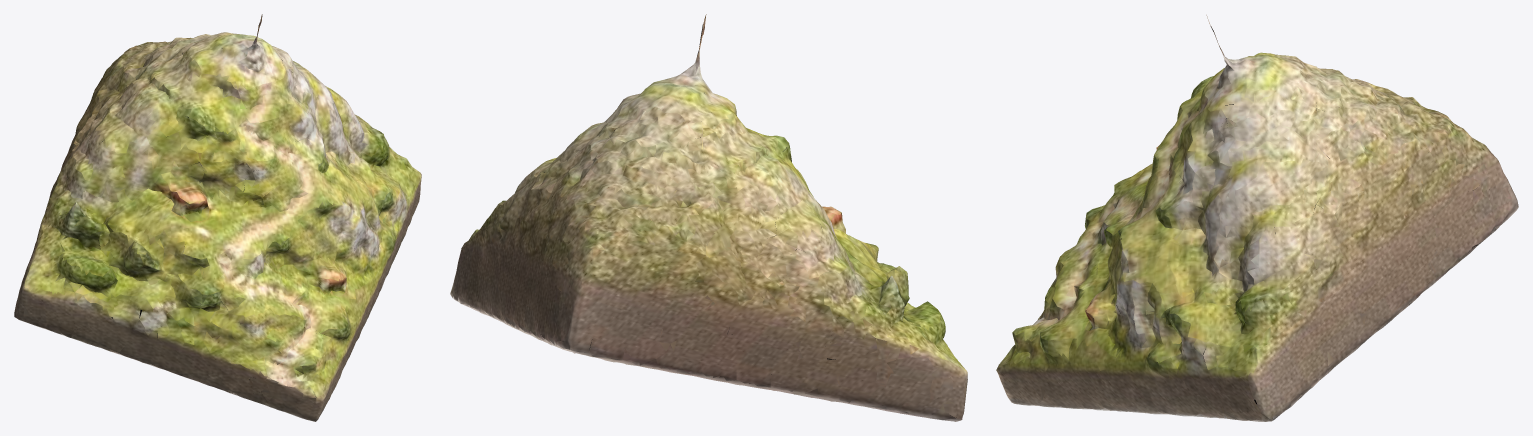
3 views of the same model, side by side, from view 1: azimuth 30°, elevation 25°; view 2: azimuth 150°, elevation 25°; view 3: azimuth 270°, elevation 25° (orthographic). The views are drawn at different scales.
Parts seen in each view (by area): view 1: world; view 2: world; view 3: world.
Part boxes in pixels (<box>): world: <box>14,14,421,421</box>; world: <box>450,14,967,421</box>; world: <box>996,15,1518,421</box>.
Bounding box in the file's own units: 1 × 0.7946 × 0.9296.
1 material, 1 textured.
